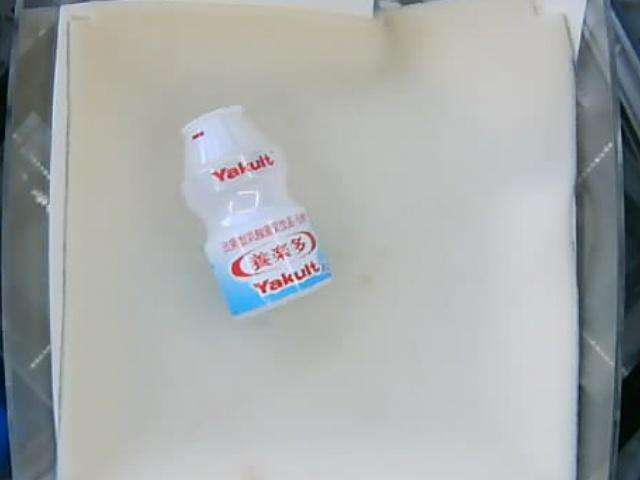Bottle: (175, 105, 333, 320)
